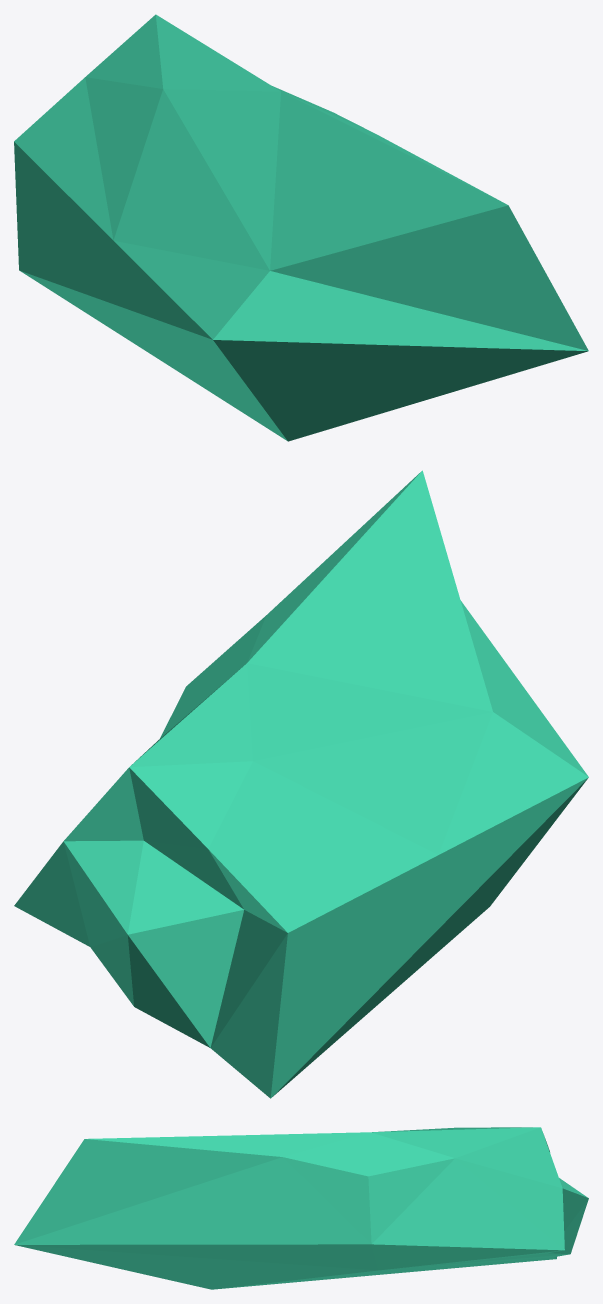
File: debris1.fbx
3 views of the same model, one above another, from view 1: azimuth 30°, elevation 25°; view 2: azimuth 150°, elevation 25°; view 3: azimuth 270°, elevation 25° (orthographic). The views are drawn at different scales.
Parts seen in each view (by area): view 1: pCube164; view 2: pCube164; view 3: pCube164.
Part boxes in pixels (x1,y1,x2,y2): pCube164: (14, 14, 588, 441); pCube164: (14, 470, 588, 1098); pCube164: (14, 1127, 588, 1289).
Size of the model in its own units: 0.6046 by 0.599 by 1.54.
